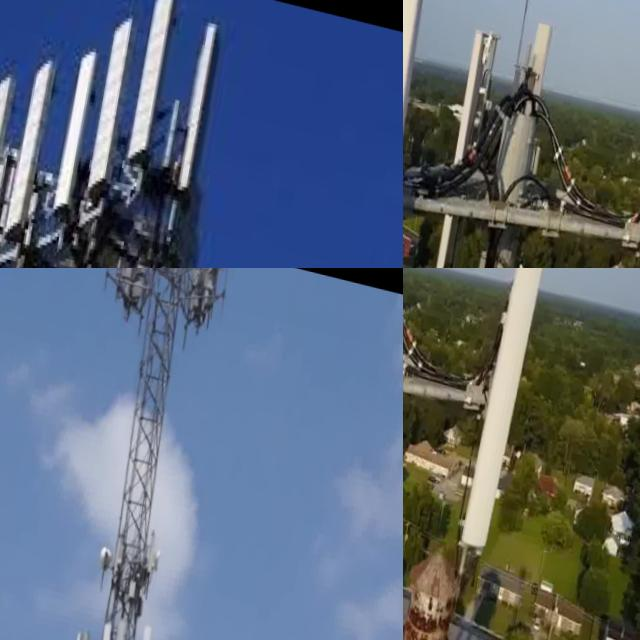GSM Antenna: (464, 268, 568, 552), (429, 6, 507, 268), (5, 38, 64, 242), (80, 3, 136, 195), (171, 0, 223, 198), (49, 34, 101, 213), (126, 0, 179, 156), (516, 1, 561, 103), (0, 49, 20, 254), (99, 591, 133, 640), (85, 601, 118, 640), (122, 605, 158, 640), (56, 607, 92, 640), (134, 614, 164, 640)
Microwave Antenna: (98, 538, 117, 574), (150, 539, 168, 573)
